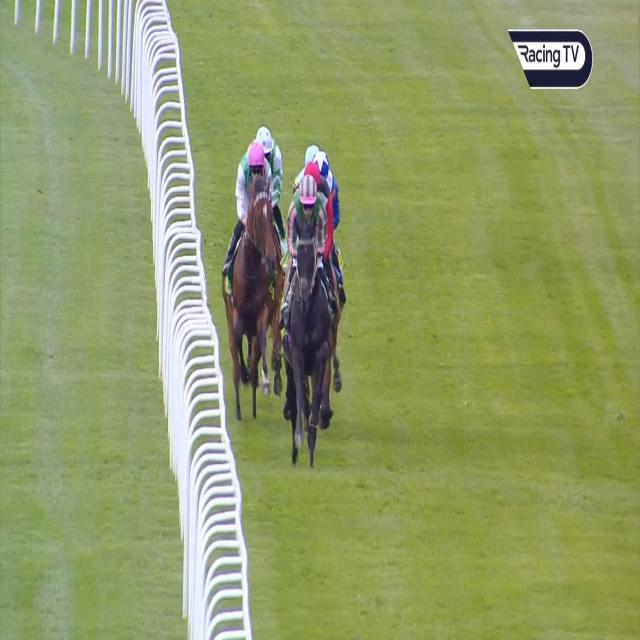horses-racing: (289, 178, 330, 465), (236, 152, 270, 395), (245, 118, 285, 212), (301, 161, 340, 256), (316, 150, 339, 187), (302, 138, 316, 170)
